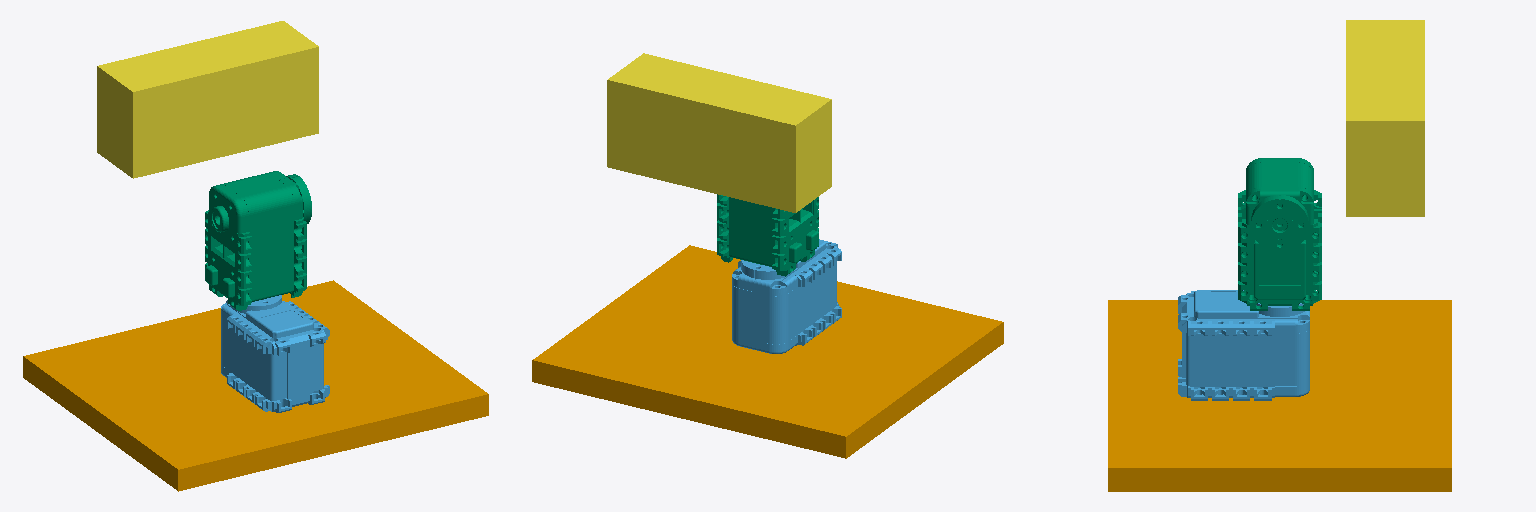
URDF robot description (holoruch_pantilt):
<?xml version="1.0"?>
<robot name="holoruch_pantilt">
  <link name="base_link">
    <visual>
      <geometry>
        <box size="0.15 0.13 0.01" />
      </geometry>
    </visual>
    <collision>
      <geometry>
        <box size="0.15 0.13 0.01" />
      </geometry>
    </collision>
    <inertial>
      <origin rpy="0 0 0" xyz="0 0 0"/>
      <mass value="0.1"/>
      <inertia ixx="1" ixy="0" ixz="0" iyy="1" iyz="0" izz="1"/>
    </inertial>
  </link>

  <joint name="base_to_pan_joint" type="fixed">
    <origin xyz="0 0 0.021" rpy="0 0 0"/>
    <parent link="base_link"/>
    <child link="pan_link"/>
  </joint>

  <link name="pan_link">
    <visual>
      <geometry>
        <mesh filename="package://holoruch_pantilt_description/meshes/AX-12A.stl" />
      </geometry>
    </visual>
    <collision>
      <geometry>
        <mesh filename="package://holoruch_pantilt_description/meshes/AX-12A_convex.stl" />
      </geometry>
    </collision>
    <inertial>
      <origin rpy="0 0 0" xyz="0 0 0"/>
      <mass value="0.055"/>
      <inertia ixx="1" ixy="0" ixz="0" iyy="1" iyz="0" izz="1"/>
    </inertial>
  </link>

  <joint name="pan_joint" type="revolute">
    <origin xyz="0 0 0.06" rpy="0 0 0"/>
    <parent link="pan_link"/>
    <child link="tilt_link"/>
    <limit lower="-1.57079" upper="1.57079" effort="1.0" velocity="1.0" />
    <axis xyz="0 0 1" />
  </joint>

  <link name="tilt_link">
    <visual>
      <origin rpy="1.57079 0 1.57079" xyz="0 0 0"/>
      <geometry>
        <mesh filename="package://holoruch_pantilt_description/meshes/AX-12A.stl" />
      </geometry>
    </visual>
    <collision>
      <origin rpy="1.57079 0 1.57079" xyz="0 0 0"/>
      <geometry>
        <mesh filename="package://holoruch_pantilt_description/meshes/AX-12A_convex.stl" />
      </geometry>
    </collision>
    <inertial>
      <origin rpy="0 0 0" xyz="0 0 0"/>
      <mass value="0.055"/>
      <inertia ixx="1" ixy="0" ixz="0" iyy="1" iyz="0" izz="1"/>
    </inertial>
  </link>

  <joint name="tilt_joint" type="revolute">
    <origin xyz="0 0.0 0.035" rpy="0 0 0"/>
    <parent link="tilt_link"/>
    <child link="camera_link"/>
    <limit lower="-0.3" upper="1.57079" effort="1.0" velocity="1.0" />
    <axis xyz="1 0 0" />
  </joint>

  <link name="camera_link">
    <visual>
      <origin rpy="0 0 0" xyz="0 0.04 0"/>
      <geometry>
        <box size="0.09 0.03 0.04" />
      </geometry>
    </visual>
    <collision>
      <origin rpy="0 0 0" xyz="0 0.04 0"/>
      <geometry>
        <box size="0.09 0.03 0.04" />
      </geometry>
    </collision>
    <inertial>
      <origin rpy="0 0 0" xyz="0 0 0"/>
      <mass value="0.08"/>
      <inertia ixx="1" ixy="0" ixz="0" iyy="1" iyz="0" izz="1"/>
    </inertial>
  </link>
</robot>

--- Facts derived from the render (not from the file) ---
Views: 3 orthographic renders of the robot side by side, from view 1: azimuth 30°, elevation 25°; view 2: azimuth 150°, elevation 25°; view 3: azimuth 270°, elevation 25°.
Robot: holoruch_pantilt — 4 links, 3 joints (2 revolute, 1 fixed); root link base_link; default pose: every joint at zero.
Visible links, largest first — view 1: base_link, camera_link, tilt_link, pan_link; view 2: base_link, camera_link, pan_link, tilt_link; view 3: base_link, camera_link, pan_link, tilt_link.
Boxes of the visible links, x1=… form: base_link: x1=23, y1=280, x2=488, y2=491; camera_link: x1=97, y1=21, x2=318, y2=178; tilt_link: x1=205, y1=171, x2=311, y2=310; pan_link: x1=221, y1=295, x2=329, y2=412; base_link: x1=532, y1=245, x2=1003, y2=458; camera_link: x1=607, y1=53, x2=831, y2=212; pan_link: x1=732, y1=239, x2=841, y2=353; tilt_link: x1=717, y1=194, x2=818, y2=276; base_link: x1=1108, y1=300, x2=1451, y2=491; camera_link: x1=1346, y1=20, x2=1424, y2=216; pan_link: x1=1178, y1=290, x2=1309, y2=400; tilt_link: x1=1238, y1=158, x2=1321, y2=310.
Size in the robot's own frame: 0.15 by 0.13 by 0.141 metres.
2 mesh visuals loaded from 1 distinct referenced files (1 binary STL).